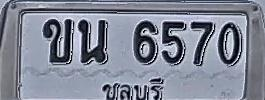0: (218, 22, 242, 66)
5: (162, 21, 186, 65)
6: (134, 20, 156, 64)
7: (190, 21, 214, 66)
A02: (43, 18, 73, 64)
A25: (78, 19, 108, 64)
CBI: (98, 77, 167, 100)
